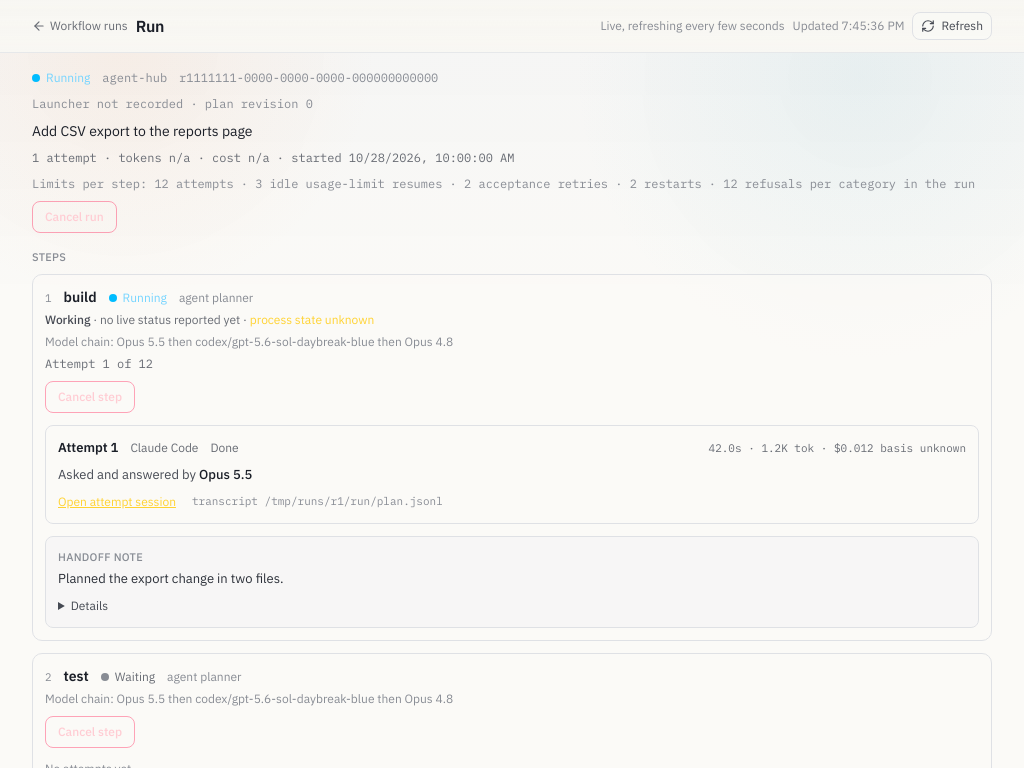
workflow run detail › cancels one step and reports a refused request
The width and height of the screenshot is (1024, 768).
Click the button "Cancel step" below "build" at (90, 396), box x1=45 y1=380 x2=135 y2=412
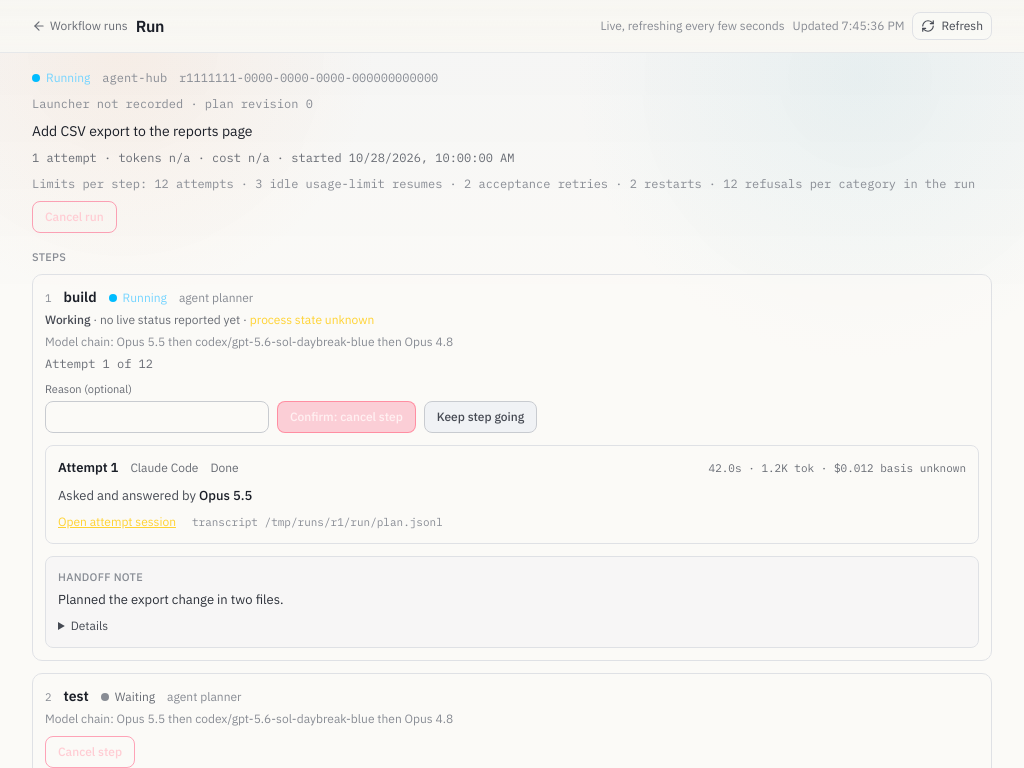
Click the button "Confirm: cancel step" at (346, 417), box x1=277 y1=401 x2=416 y2=433
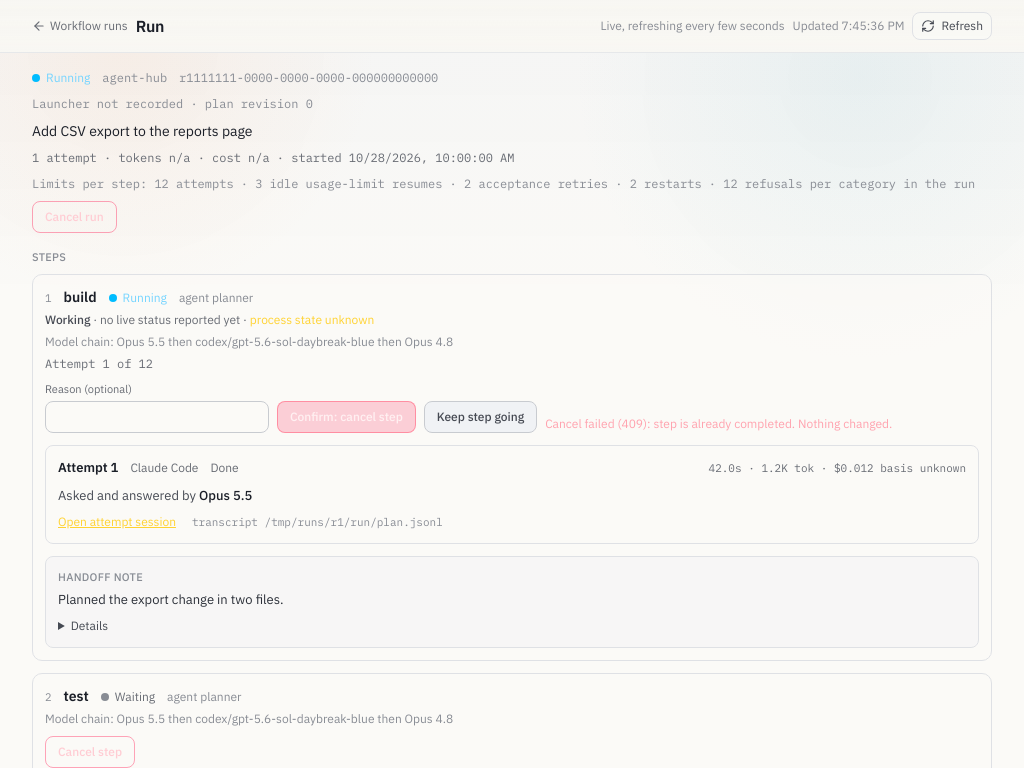
Expected: the number of elements with test id "cancel-step" is 2, x1=45 y1=380 x2=979 y2=433; x1=45 y1=736 x2=135 y2=767
Expected: the message shows "step is already completed", x1=545 y1=416 x2=792 y2=431
